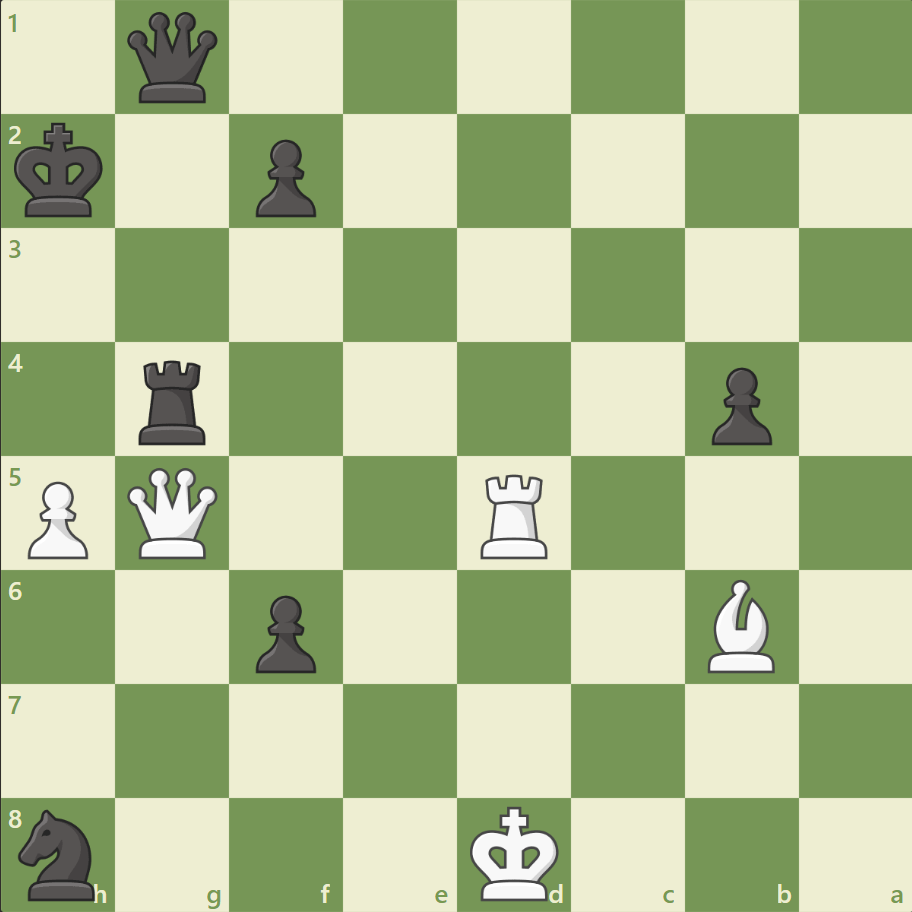B: (698, 574, 782, 676)
K: (465, 798, 565, 906)
P: (20, 473, 95, 564)
Q: (124, 463, 223, 562)
R: (473, 466, 556, 563)
k: (11, 117, 111, 225)
n: (11, 802, 108, 904)
p: (247, 586, 322, 677), (701, 359, 776, 450), (247, 132, 322, 223)
q: (124, 9, 223, 108)
r: (133, 352, 215, 449)
